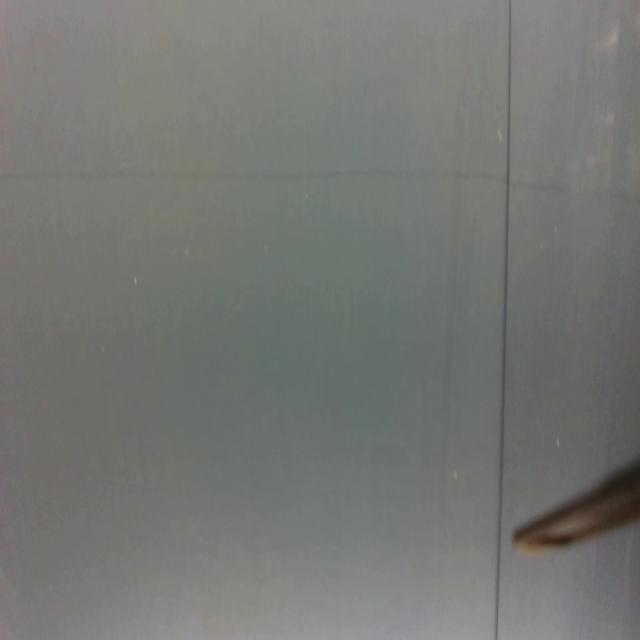color bleeding: (0, 160, 640, 212)
crease: (494, 1, 512, 640)
hole: (496, 125, 504, 148), (132, 272, 140, 290), (184, 244, 190, 262), (452, 470, 460, 482), (555, 435, 561, 451)
